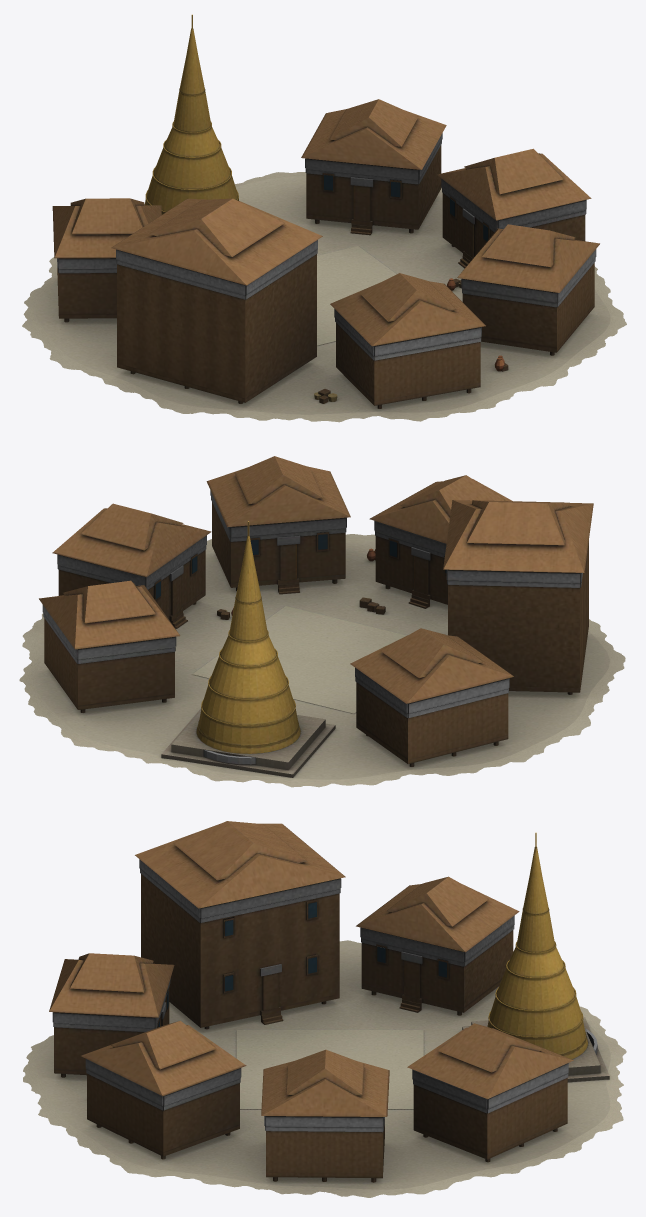
The model's file is kingdoms-town-small-b-monsoon.glb.
The picture shows the model from 3 angles, top to bottom: view 1: azimuth 30°, elevation 25°; view 2: azimuth 150°, elevation 25°; view 3: azimuth 270°, elevation 25°; orthographic projection.
Parts seen in each view (by area): view 1: LOD0; view 2: LOD0; view 3: LOD0.
Part boxes in pixels (left/top/right/bottom): LOD0: left=22, top=14, right=626, bottom=422; LOD0: left=19, top=456, right=625, bottom=787; LOD0: left=23, top=821, right=626, bottom=1197.
Size of what is drawn, in the model's own units: 3.98 by 1.6 by 3.96.
3 materials, 3 textured.
